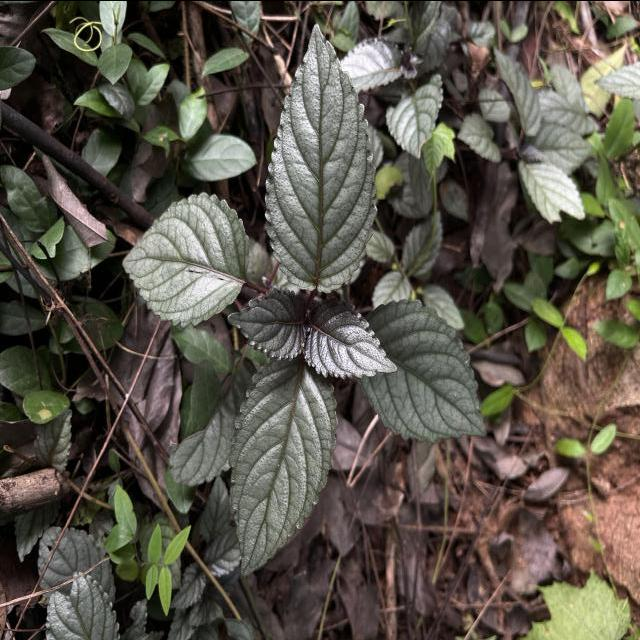Hemigraphis colorata: (260, 19, 380, 297), (228, 354, 342, 583), (352, 294, 490, 444), (119, 188, 254, 330), (303, 293, 399, 382), (226, 285, 308, 363)
